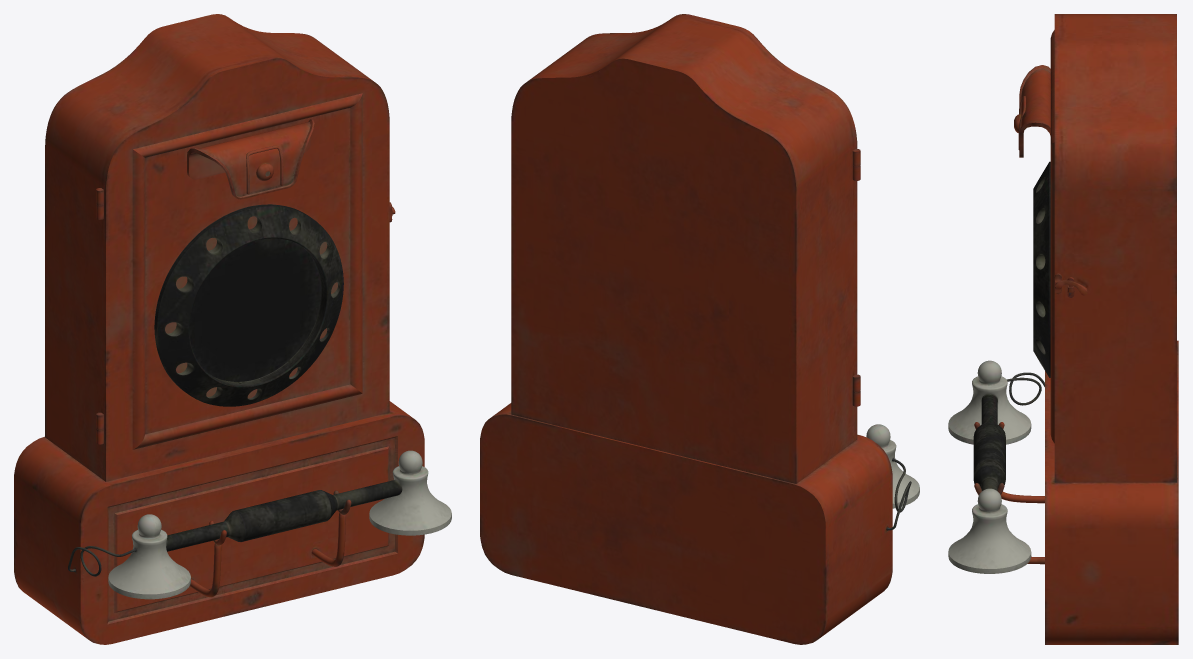
The model's file is vintage_telephone_wall_clock_1k.glb.
The picture shows the model from 3 angles, left to right: view 1: azimuth 30°, elevation 25°; view 2: azimuth 150°, elevation 25°; view 3: azimuth 270°, elevation 25°; orthographic projection.
Visible parts, largest first — view 1: vintage_telephone_wall_clock; view 2: vintage_telephone_wall_clock; view 3: vintage_telephone_wall_clock.
Part boxes in pixels (bbox=[...]): vintage_telephone_wall_clock: bbox=[14, 14, 451, 644]; vintage_telephone_wall_clock: bbox=[480, 14, 919, 644]; vintage_telephone_wall_clock: bbox=[948, 14, 1178, 644].
Bounding box in the file's own units: 0.3428 × 0.5012 × 0.1926.
2 materials, 2 textured.
